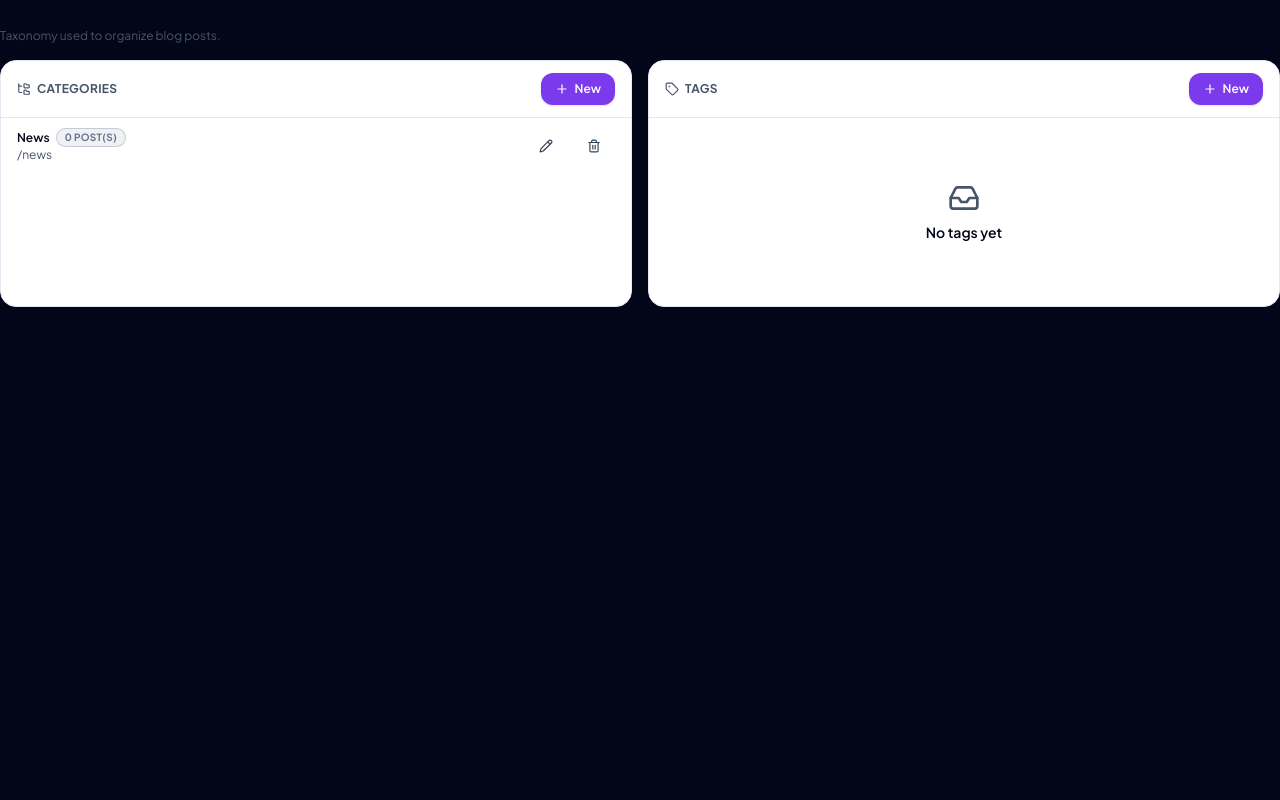
Test: CmsTaxonomyPage › Phase 7 — hierarchy, counts, delete-in-use protection › offers a parent-category picker in the category form
Expected: the text "News" is shown, [17,130,50,145]
Click the 1st button "New" at point(578, 89), box [540,73,615,105]
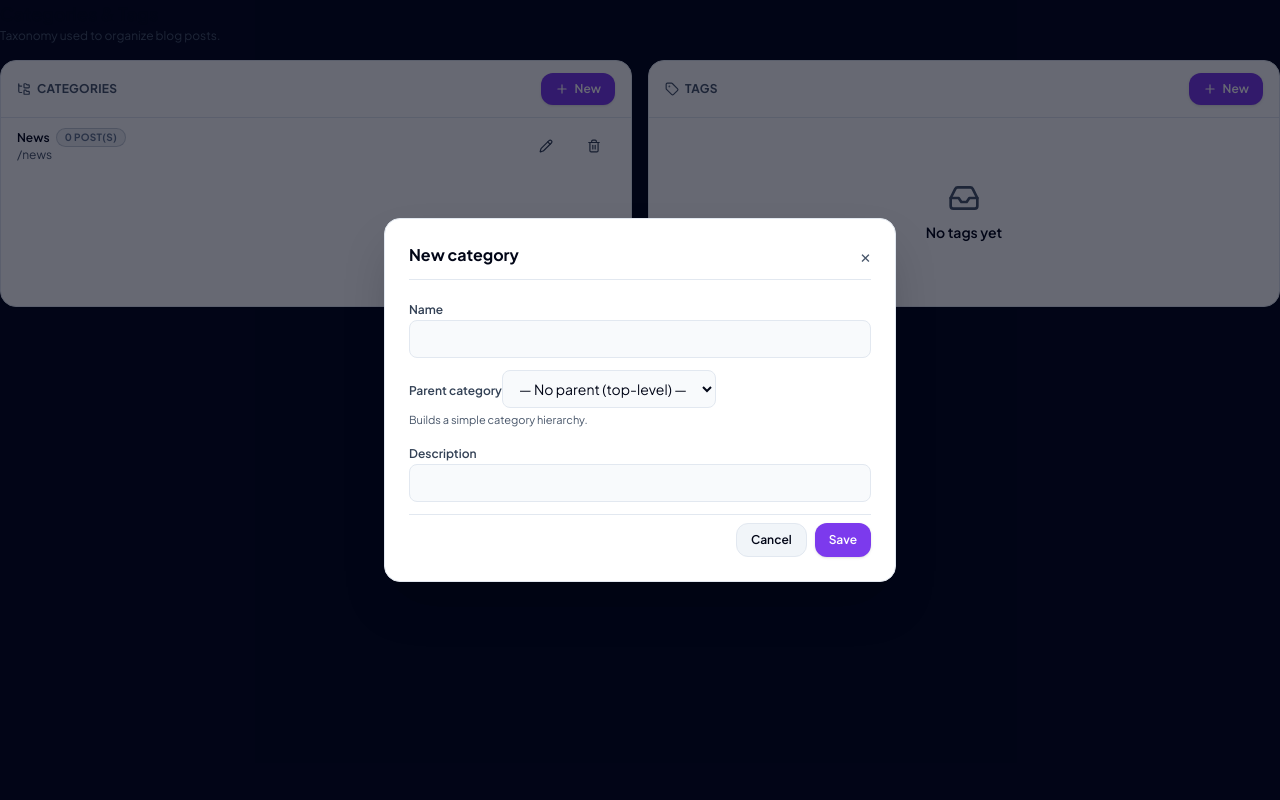
Result: the dropdown labelled "Parent category Builds a simple category hierarchy." is shown at [502,370,716,408]
